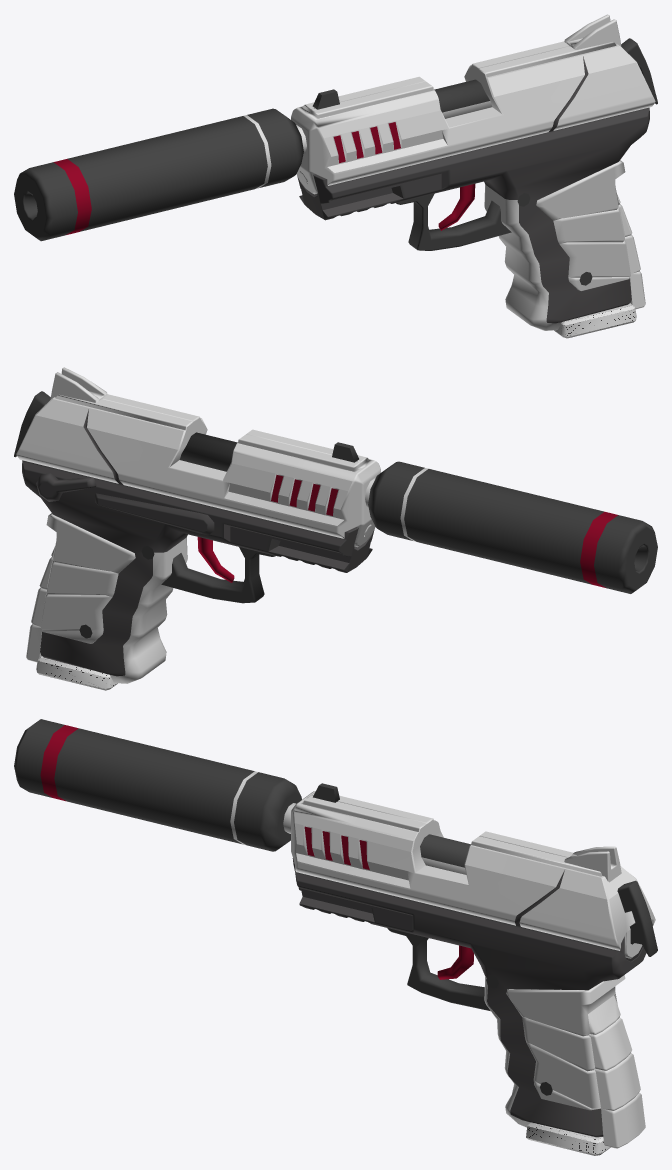
File: Pistol.fbx
3 renders of one model, top to bottom at view 1: azimuth 30°, elevation 25°; view 2: azimuth 150°, elevation 25°; view 3: azimuth 330°, elevation 25°, orthographic.
Parts seen in each view (by area): view 1: Kayoko_Original_Weapon; view 2: Kayoko_Original_Weapon; view 3: Kayoko_Original_Weapon.
Part boxes in pixels (<box>): Kayoko_Original_Weapon: <box>14,14,657,338</box>; Kayoko_Original_Weapon: <box>14,367,657,690</box>; Kayoko_Original_Weapon: <box>14,719,657,1155</box>.
Bounding box in the file's own units: 27.76 × 12.37 × 3.2.
